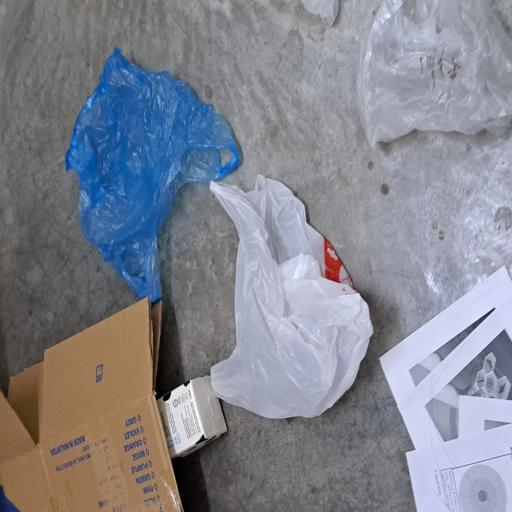cardboard: (0, 0, 163, 251)
drink carton: (36, 212, 106, 304)
plastic bag: (156, 86, 352, 320), (67, 280, 255, 498)
